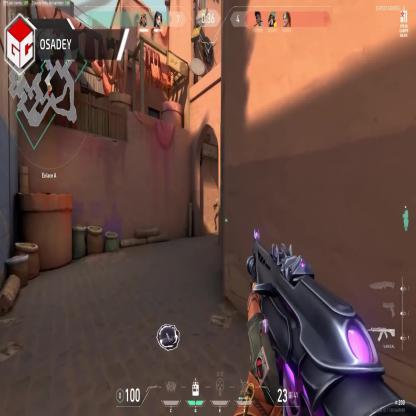enemy: (214, 194, 221, 232)
enemy_head: (216, 197, 219, 205)
